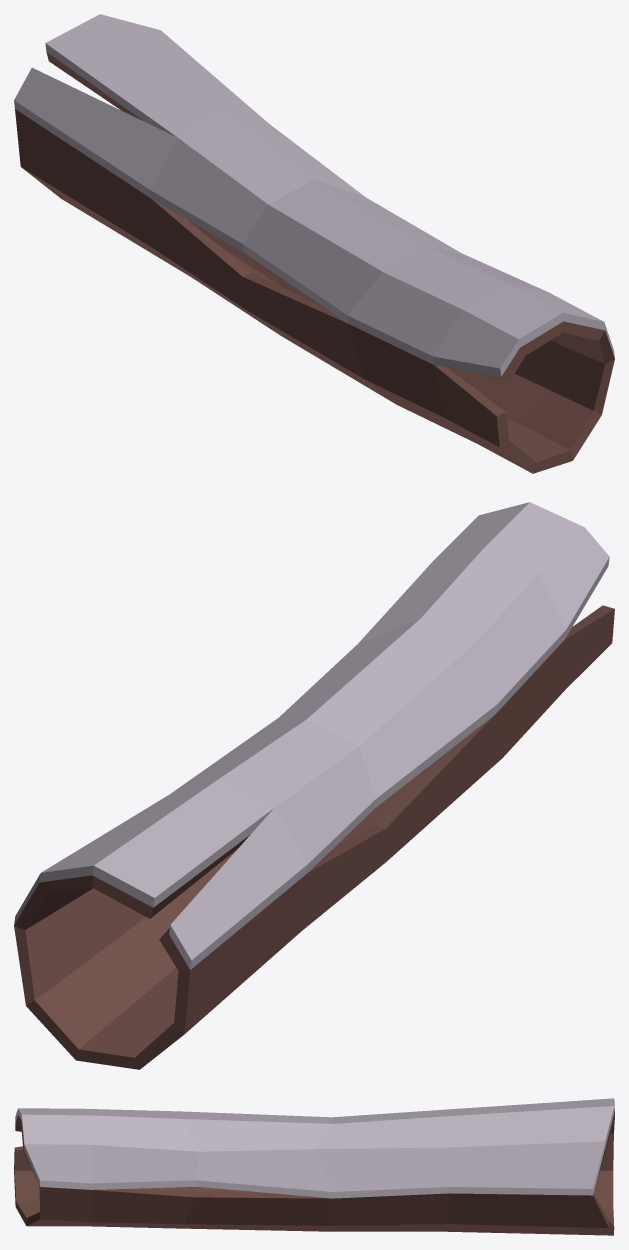
Rendered from woodlog_snow.glb.
3 renders of one model, top to bottom at view 1: azimuth 30°, elevation 25°; view 2: azimuth 150°, elevation 25°; view 3: azimuth 270°, elevation 25°, orthographic. The views are drawn at different scales.
Visible parts, largest first — view 1: WoodLog_Snow; view 2: WoodLog_Snow; view 3: WoodLog_Snow.
Part boxes in pixels (<box>): WoodLog_Snow: <box>14,14,614,473</box>; WoodLog_Snow: <box>14,502,614,1069</box>; WoodLog_Snow: <box>14,1098,614,1235</box>.
Size of the model in its own units: 0.6268 by 0.5841 by 2.49.
